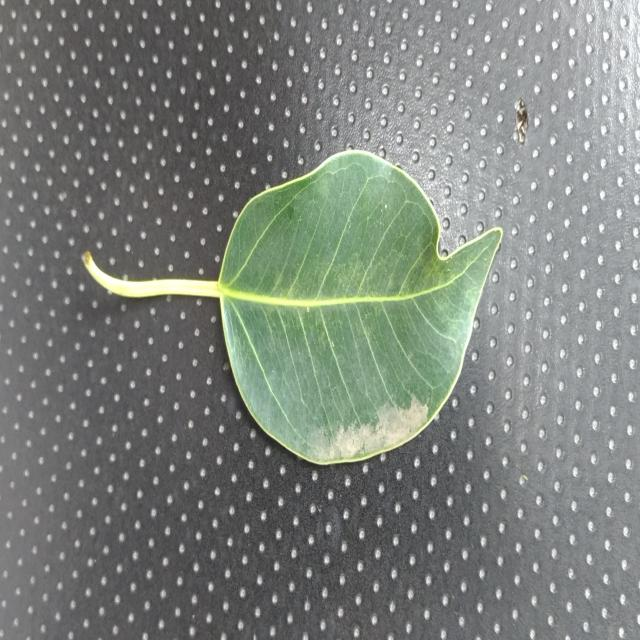camphor: (219, 151, 501, 462)
